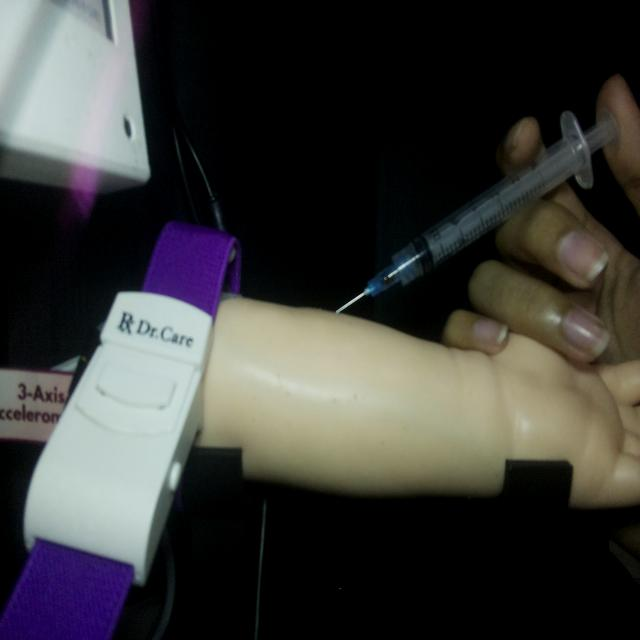22 degrees: (333, 104, 620, 316)
